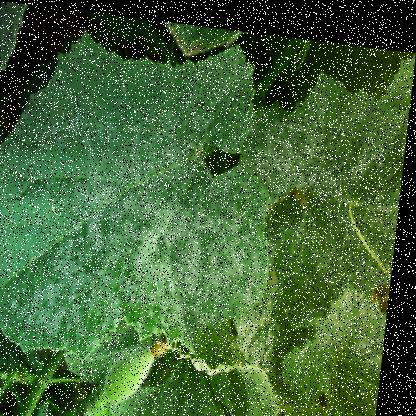PowderyMildew: (73, 148, 180, 288), (256, 101, 375, 186), (172, 180, 253, 295)
